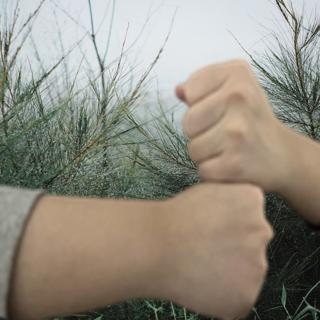CAREFUL: (45, 58, 320, 315)
